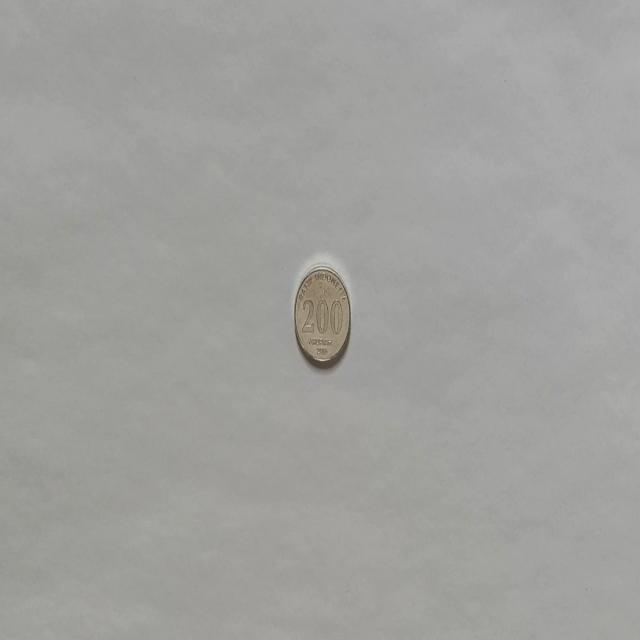dua ratus rupiah: (293, 264, 352, 366)
